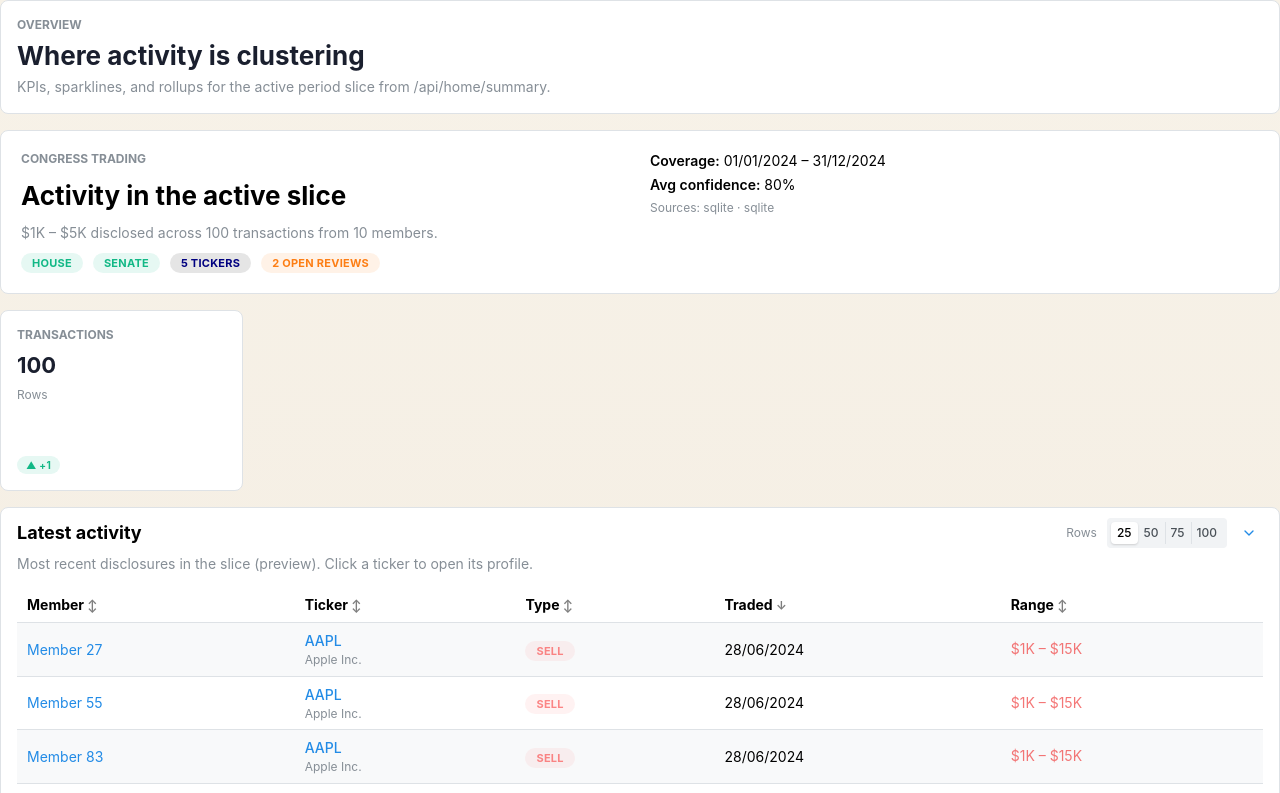
Test case: Home route › respects the Rows size selector
Click the radio button labelled "50". click: point(1151, 532)
box: [1144,525,1158,540]
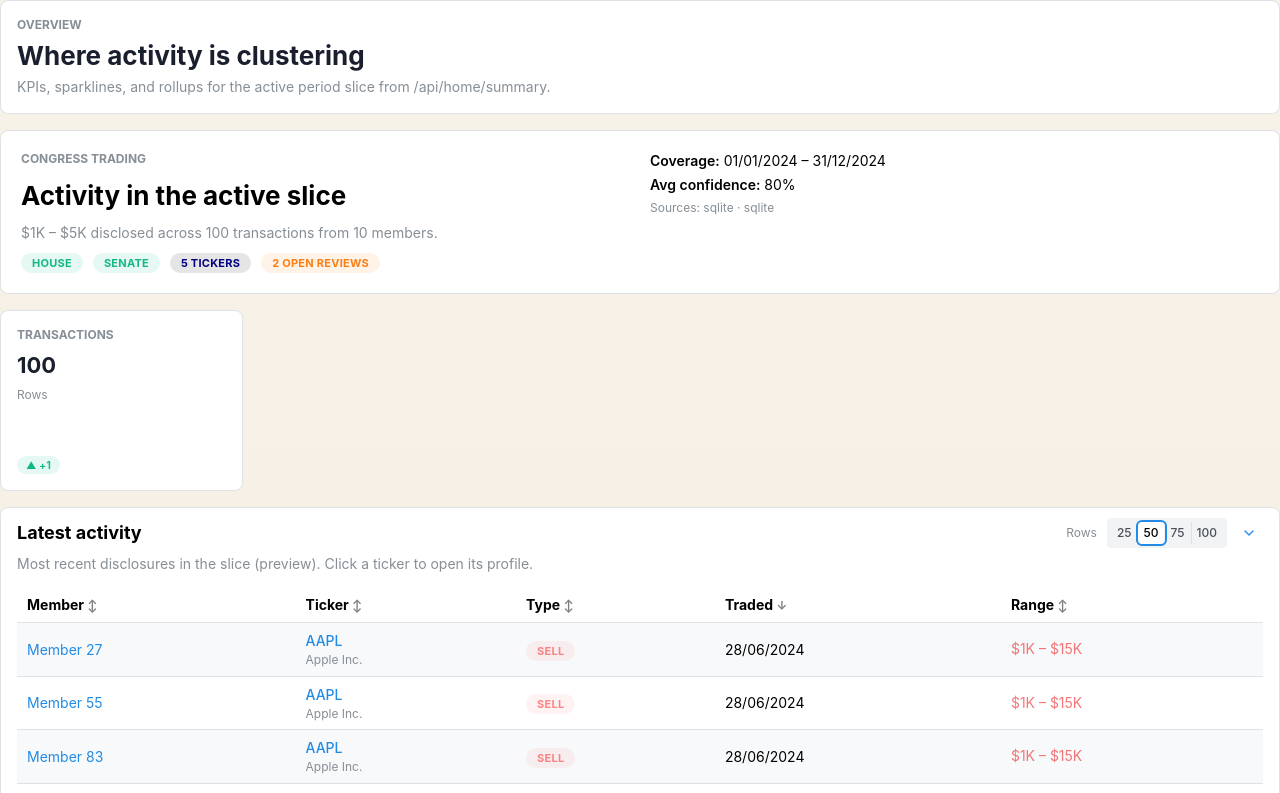
Now the number of rows with test id "home-latest-row" is 50
Click the radio button labelled "75". click: point(1178, 532)
box: [1170,525,1184,540]
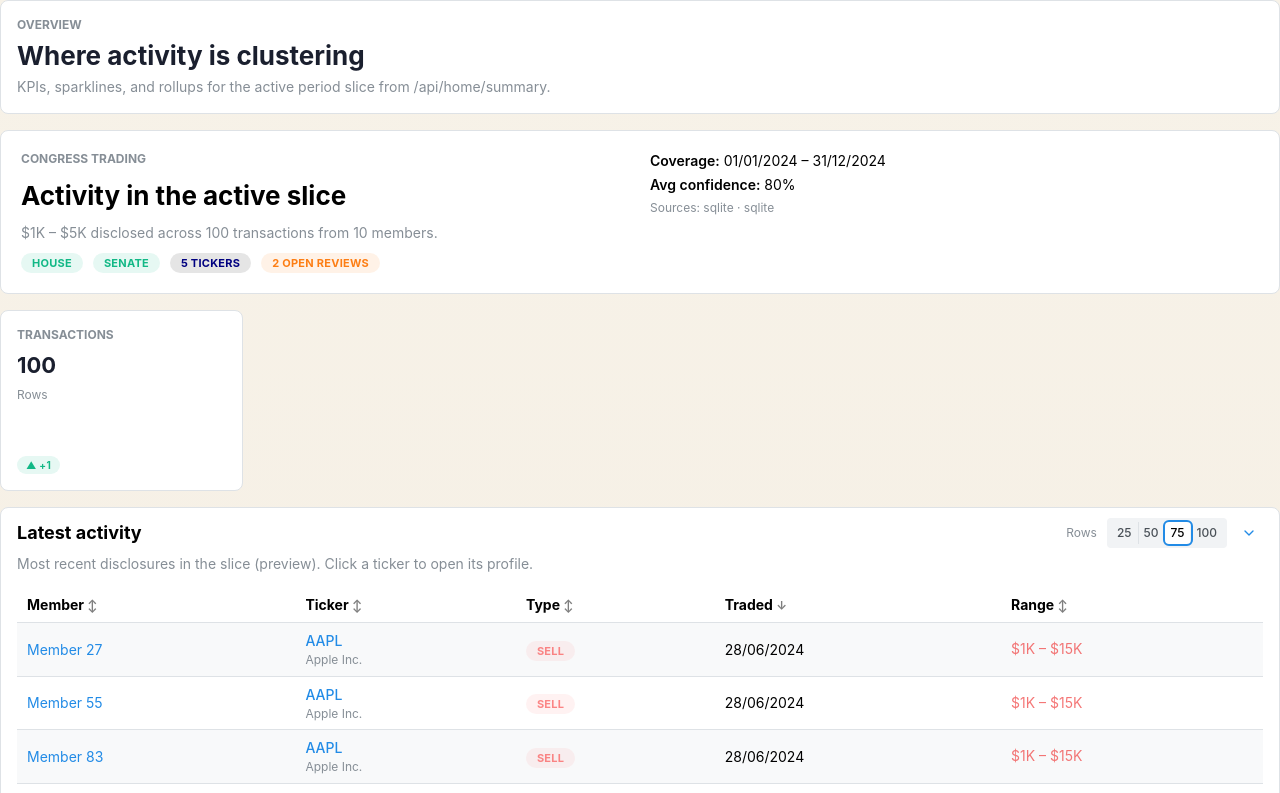
Now the number of rows with test id "home-latest-row" is 75
Click the radio button labelled "100". click: point(1207, 532)
box: [1196,525,1217,540]
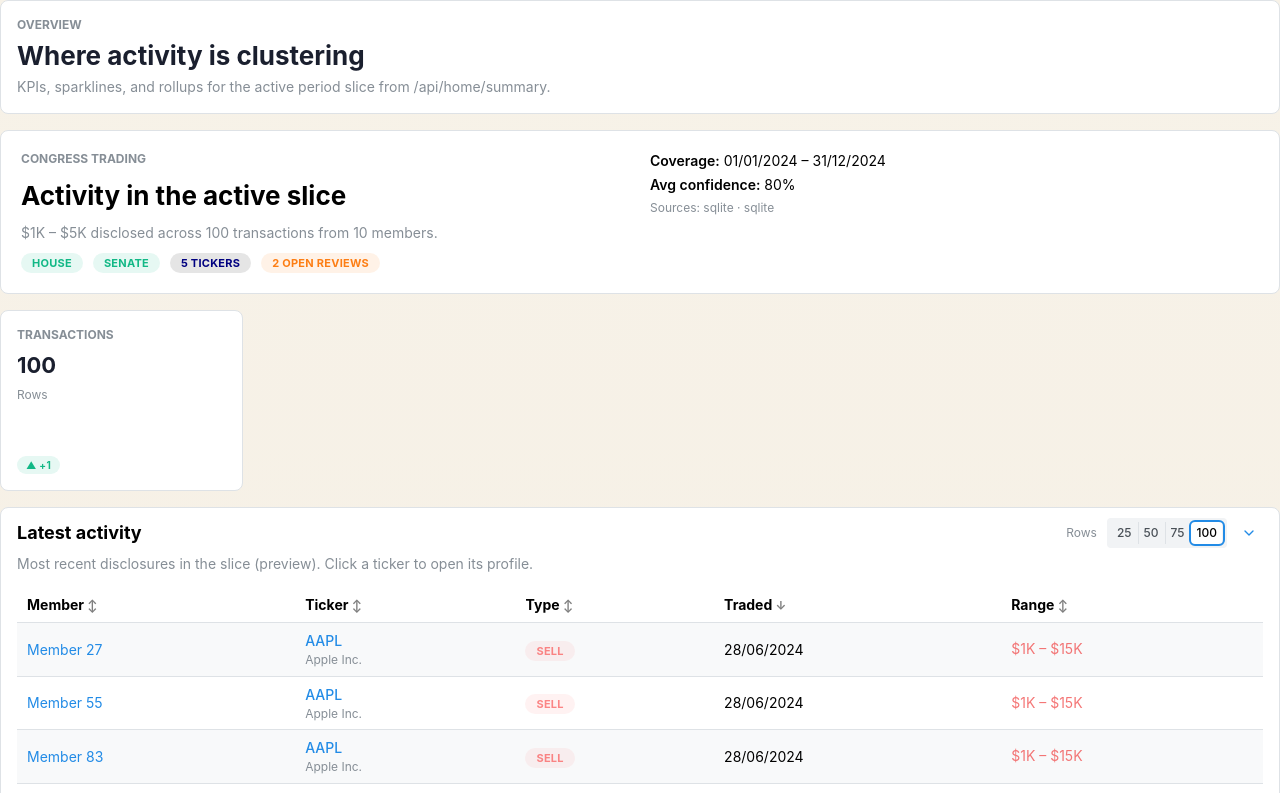
Now the number of rows with test id "home-latest-row" is 100
Click the radio button labelled "25". click: point(1124, 532)
box: [1117,525,1132,540]
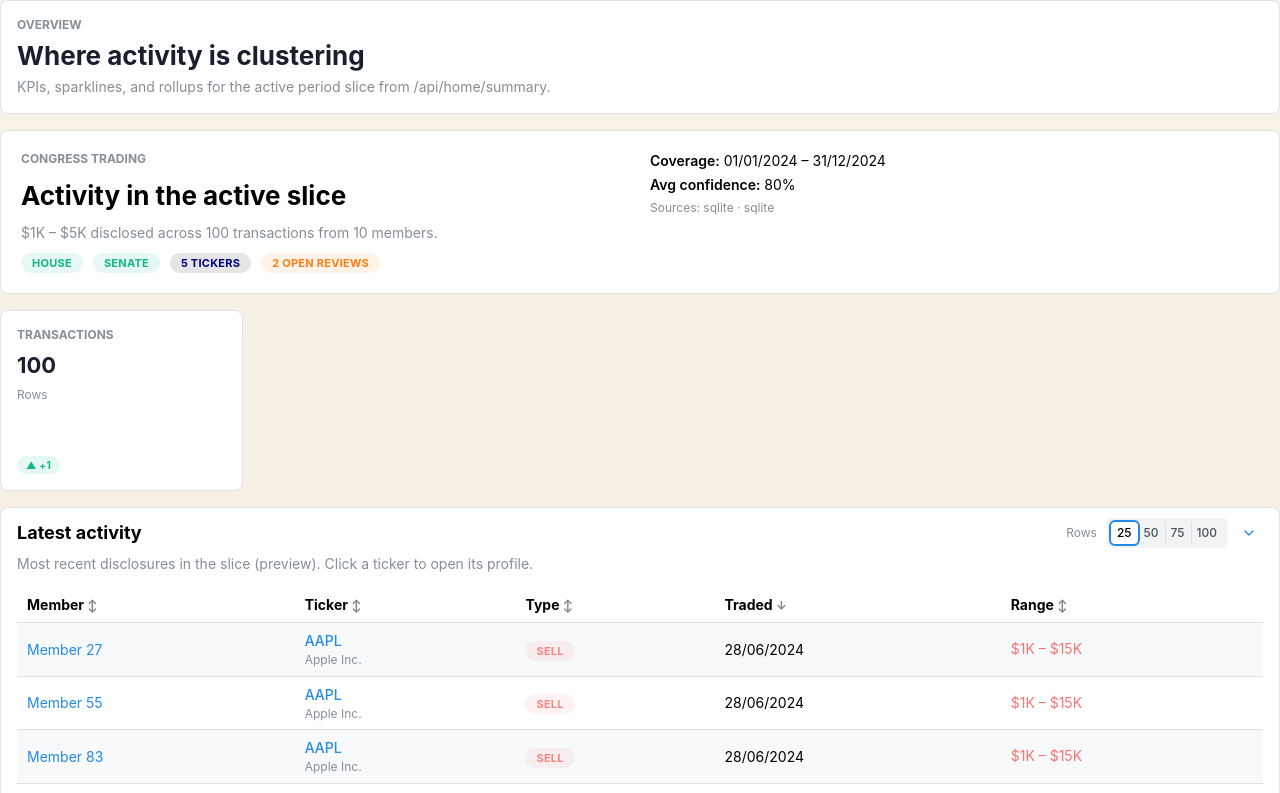
Now the number of rows with test id "home-latest-row" is 25
